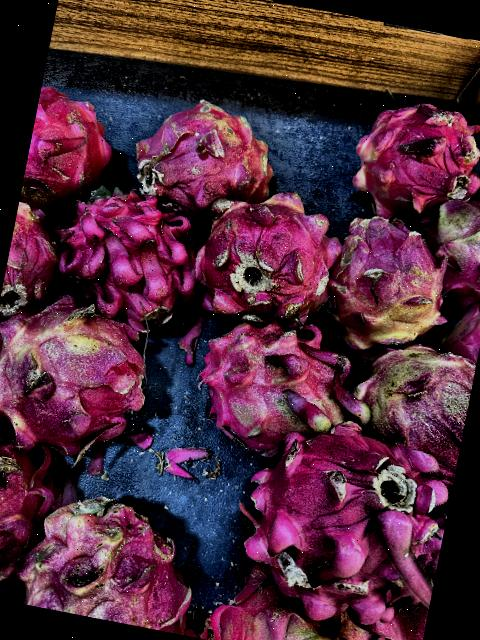buah-naga-belum-matang: (190, 304, 384, 464), (0, 289, 166, 467), (18, 488, 196, 632), (182, 181, 348, 324), (128, 91, 280, 209), (352, 325, 480, 465), (325, 216, 455, 346), (205, 559, 379, 640), (0, 430, 50, 603), (0, 201, 69, 316), (426, 193, 480, 296)
buah-naga-matang: (243, 414, 456, 611), (41, 182, 199, 331), (349, 96, 480, 230), (20, 84, 115, 208)
